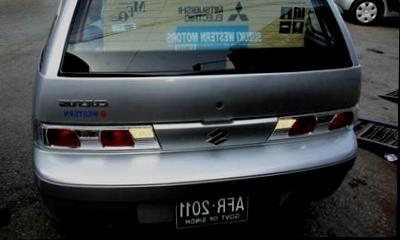License_Plate: (177, 192, 250, 230)
